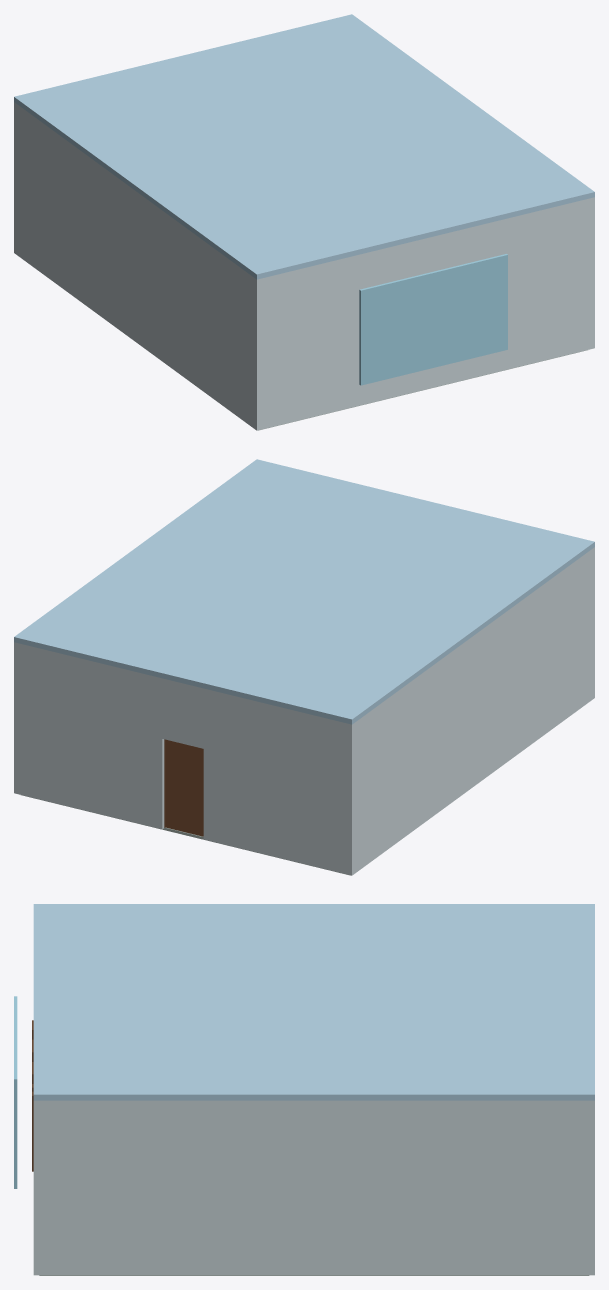
The model's file is room_bath_f1.glb.
3 views of the same model, one above another, from view 1: azimuth 30°, elevation 25°; view 2: azimuth 150°, elevation 25°; view 3: azimuth 270°, elevation 25° (orthographic). The views are drawn at different scales.
Visible parts, largest first — view 1: CEILING, WALLS, VIEW_window; view 2: WALLS, CEILING, DOOR_corridor; view 3: CEILING, WALLS, VIEW_window, FLOOR_visible.
Boxes of the visible parts, box(x1,y1,x2,y2) form: CEILING: box(14, 14, 594, 279); WALLS: box(14, 102, 594, 430); VIEW_window: box(359, 254, 507, 385); WALLS: box(14, 547, 594, 875); CEILING: box(14, 459, 594, 724); DOOR_corridor: box(165, 739, 203, 836); CEILING: box(33, 904, 594, 1100); WALLS: box(33, 1100, 594, 1275); VIEW_window: box(14, 996, 17, 1188); FLOOR_visible: box(39, 1275, 589, 1275).
Size of the model in its own units: 8.2 by 3.68 by 10.56.
